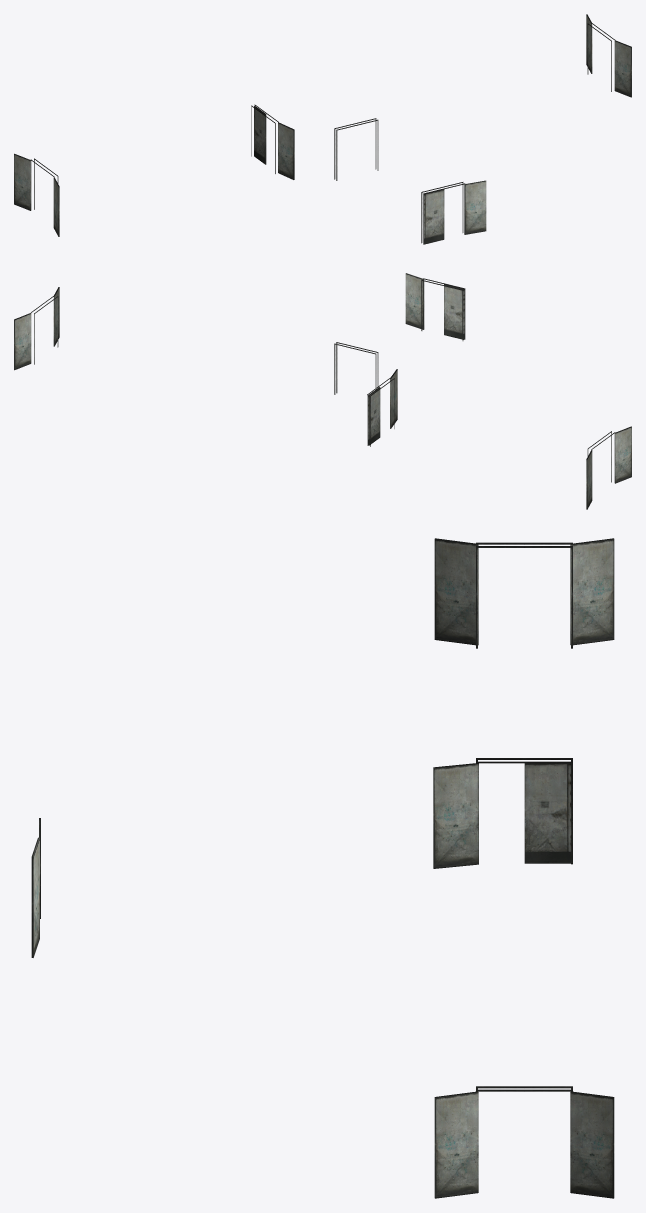
Rendered from open_door.fbx.
3 renders of one model, top to bottom at view 1: azimuth 30°, elevation 25°; view 2: azimuth 150°, elevation 25°; view 3: azimuth 270°, elevation 25°, orthographic. The views are drawn at different scales.
Visible parts, largest first — view 1: open_door.001; view 2: open_door.001; view 3: open_door.001.
Part boxes in pixels (<box>): open_door.001: <box>14,14,631,244</box>; open_door.001: <box>14,273,631,509</box>; open_door.001: <box>31,538,614,1198</box>.
Size of the model in its own units: 33.38 by 2.86 by 14.69.
Materials: 1 (1 with a texture image).
